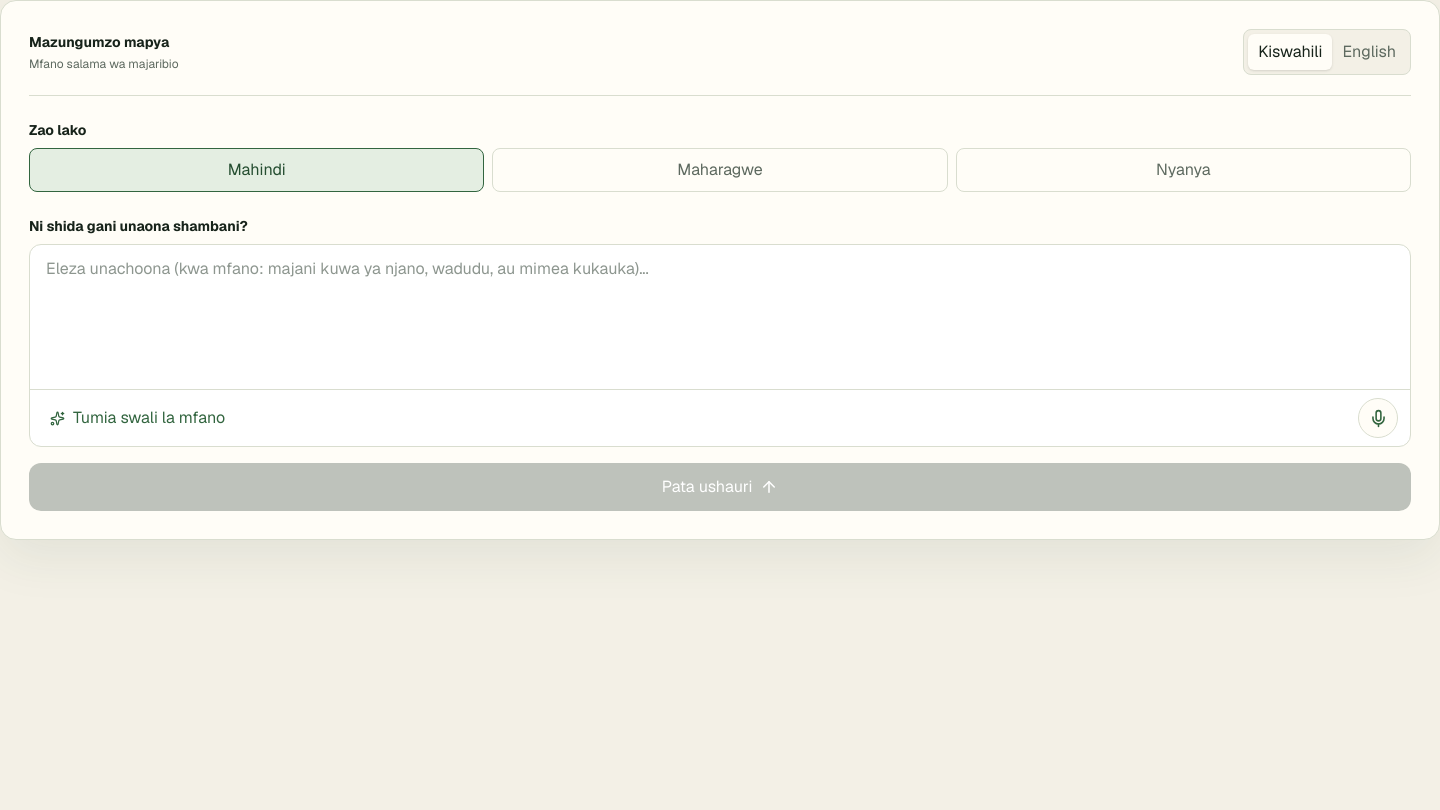
FarmerAssistant › keeps text input available when microphone permission is denied
This screenshot has width=1440, height=810.
Click the button named "Rekodi swali kwa sauti" at (1378, 418), box x1=1358 y1=398 x2=1398 y2=438
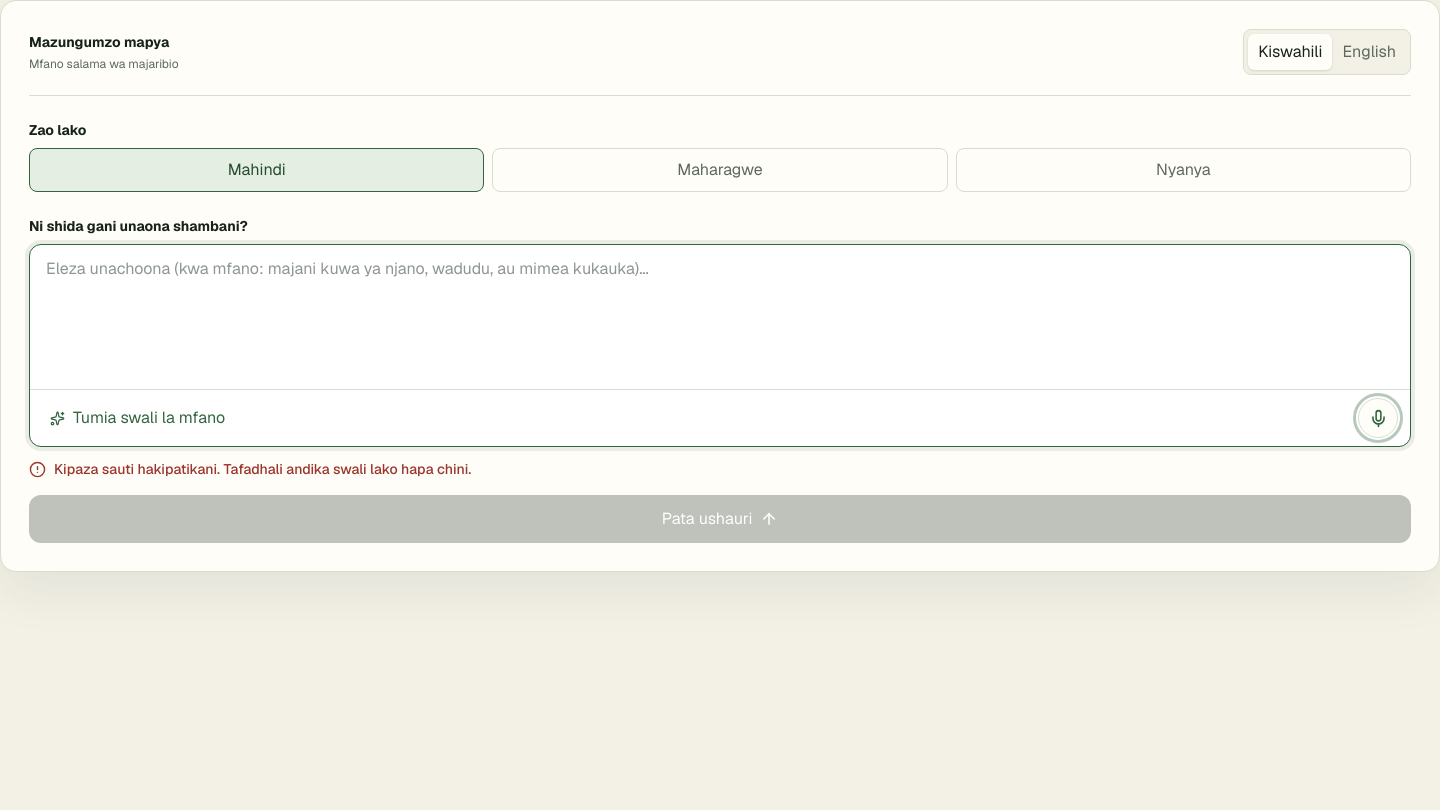
Check: the text box is enabled, box x1=30 y1=245 x2=1410 y2=389
Check: the message reads "Kipaza sauti hakipatikani. Tafadhali andika swali lako hapa chini.", box x1=54 y1=460 x2=471 y2=478
